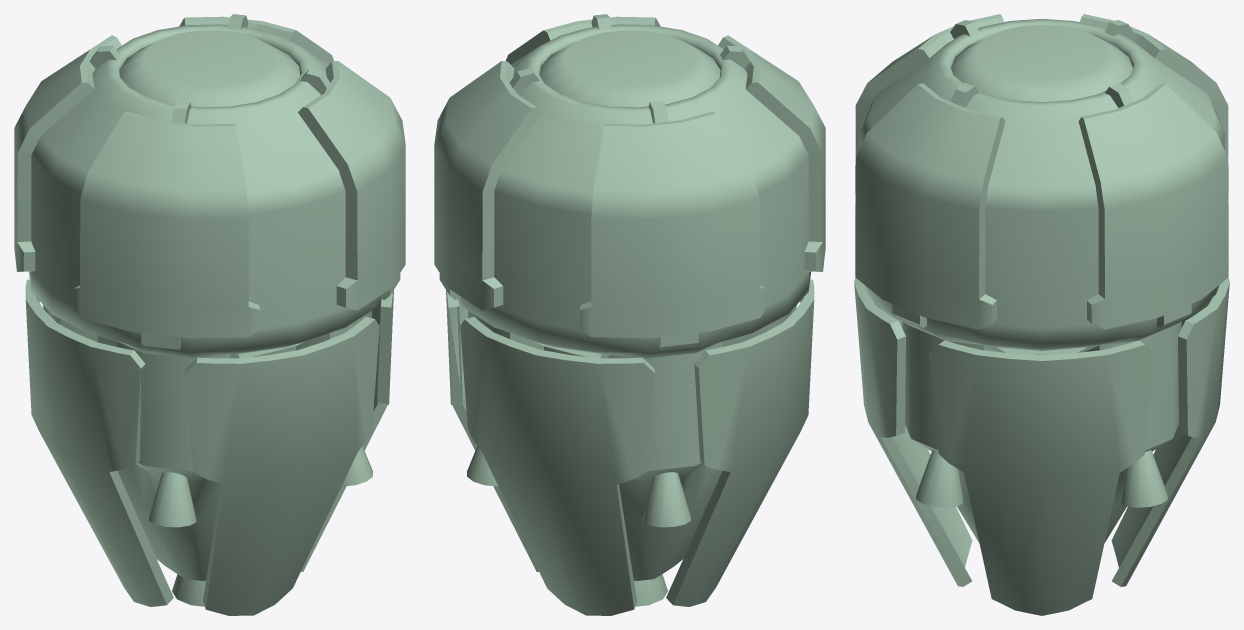
File: REENTRY_CRAFT_static_closed_noholes_LOD.fbx
3 views of the same model, side by side, from view 1: azimuth 30°, elevation 25°; view 2: azimuth 150°, elevation 25°; view 3: azimuth 270°, elevation 25° (orthographic).
Visible parts, largest first — view 1: EPOD_static_closed_noholes_LOD1_GEO; view 2: EPOD_static_closed_noholes_LOD1_GEO; view 3: EPOD_static_closed_noholes_LOD1_GEO.
Part boxes in pixels (bbox=[...]): EPOD_static_closed_noholes_LOD1_GEO: bbox=[14, 14, 405, 615]; EPOD_static_closed_noholes_LOD1_GEO: bbox=[434, 14, 825, 615]; EPOD_static_closed_noholes_LOD1_GEO: bbox=[854, 14, 1229, 615].
Bounding box in the file's own units: 5.95 × 9.33 × 5.95.
